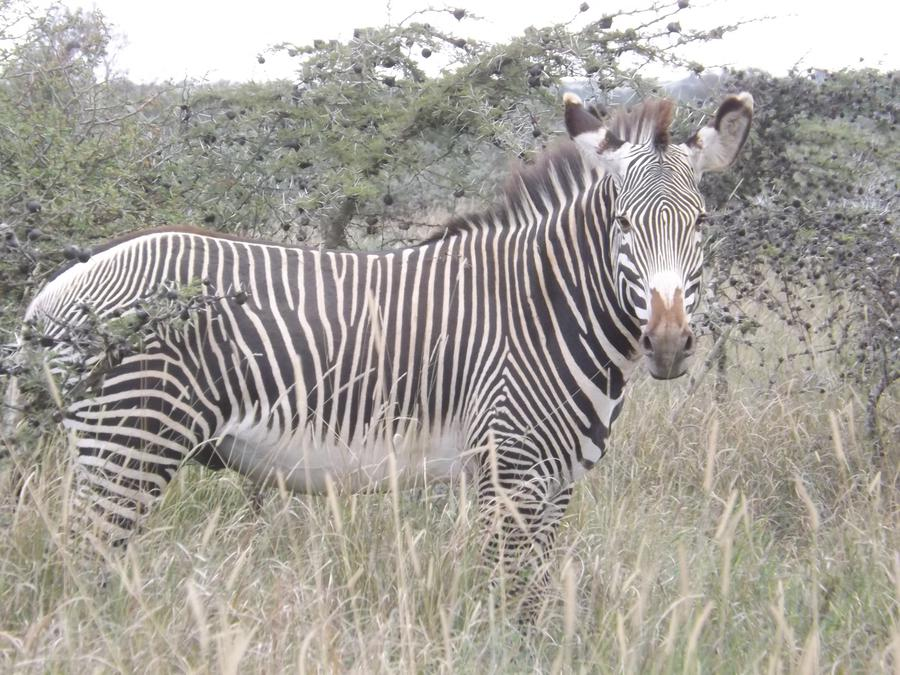zebra_grevys: (26, 204, 585, 490)
